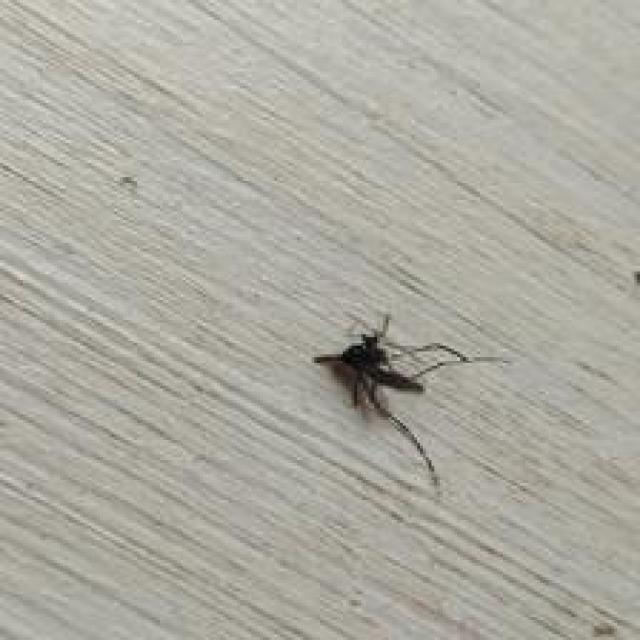Aedes albopictus: (312, 308, 508, 488)
